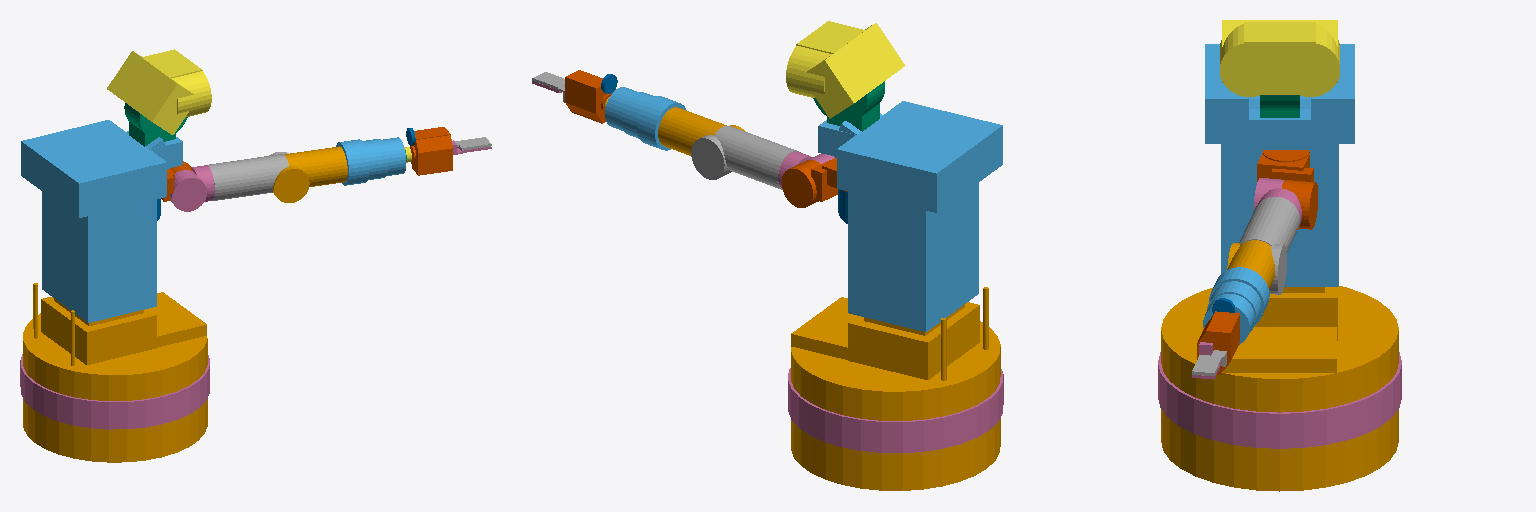
--- Render facts (derived) ---
The picture shows the robot from 3 angles, left to right: view 1: azimuth 30°, elevation 25°; view 2: azimuth 150°, elevation 25°; view 3: azimuth 270°, elevation 25°; orthographic projection.
Model TIAGo Steel with 52 links and 51 joints (9 revolute, 10 continuous, 3 prismatic, 29 fixed), rooted at base_link, posed joints at zero except 1 at the middle of their limits (arm_1_joint = 1.38).
Links seen in each view (by area): view 1: torso_lift_link, base_link, Torso, head_2_link, base_cover_link, arm_4_link, arm_3_link, arm_5_link, front, arm_2_link, head_1_link; view 2: torso_lift_link, base_link, Torso, head_2_link, base_cover_link, arm_3_link, arm_5_link, TIAGo front arm_11381, arm_4_link, front, head_1_link, arm_2_link; view 3: base_link, torso_lift_link, base_cover_link, head_2_link, Torso, arm_3_link, TIAGo front arm_11381, arm_5_link, front, arm_4_link, head_1_link, arm_2_link (+1 smaller).
Link boxes in pixels (x1,y1,x2,y2): torso_lift_link: (21,120,182,322); base_link: (23,283,207,462); Torso: (41,292,206,364); head_2_link: (107,49,211,134); base_cover_link: (20,354,209,429); arm_4_link: (273,146,347,202); arm_3_link: (208,152,288,200); arm_5_link: (336,137,405,185); front: (410,127,452,175); arm_2_link: (170,165,214,211); head_1_link: (124,103,187,146); torso_lift_link: (818,101,1002,331); base_link: (791,287,1000,490); Torso: (791,297,979,379); head_2_link: (786,21,904,118); base_cover_link: (788,368,1003,452); arm_3_link: (691,126,798,189); arm_5_link: (605,87,686,150); TIAGo front arm_11381: (781,158,847,207); arm_4_link: (658,107,745,155); front: (565,70,615,123); head_1_link: (813,81,884,131); arm_2_link: (778,151,834,187); base_link: (1161,286,1398,491); torso_lift_link: (1205,44,1354,286); base_cover_link: (1158,352,1401,448); head_2_link: (1220,20,1339,96); Torso: (1223,287,1337,372); arm_3_link: (1239,197,1299,294); TIAGo front arm_11381: (1257,150,1317,229); arm_5_link: (1203,267,1269,344); front: (1197,311,1239,374); arm_4_link: (1227,240,1274,288); head_1_link: (1260,95,1299,117); arm_2_link: (1254,178,1301,225).
Size in the robot's own frame: 1.41 by 0.544 by 1.12 metres.
Geometry: primitives only (box / cylinder / sphere), no mesh files.

robot.urdf — TIAGo Steel:
<?xml version="1.0"?>
<robot name="TIAGo Steel" xmlns:xacro="http://ros.org/wiki/xacro">
  <link name="base_link">
    <visual>
      <origin xyz="0 0 0.06" rpy="3.1407962 0 0"/>
      <geometry>
        <cylinder radius="0.265" length="0.276"/>
      </geometry>
    </visual>
    <collision>
      <origin xyz="0 0 0.06" rpy="3.1407962 0 0"/>
      <geometry>
        <cylinder radius="0.265" length="0.276"/>
      </geometry>
    </collision>
    <visual>
      <origin xyz="-0.201 0.1062 0.28" rpy="3.1407962 0 0"/>
      <geometry>
        <cylinder radius="0.007" length="0.173"/>
      </geometry>
    </visual>
    <collision>
      <origin xyz="-0.201 0.1062 0.28" rpy="3.1407962 0 0"/>
      <geometry>
        <cylinder radius="0.007" length="0.173"/>
      </geometry>
    </collision>
    <visual>
      <origin xyz="-0.201 -0.1062 0.28" rpy="3.1407962 0 0"/>
      <geometry>
        <cylinder radius="0.007" length="0.173"/>
      </geometry>
    </visual>
    <collision>
      <origin xyz="-0.201 -0.1062 0.28" rpy="3.1407962 0 0"/>
      <geometry>
        <cylinder radius="0.007" length="0.173"/>
      </geometry>
    </collision>
  </link>
  <joint name="hingejoint_12445" type="continuous">
    <parent link="base_link"/>
    <child link="caster_back_left_1_link"/>
    <axis xyz="0 0 1"/>
    <origin xyz="-0.1735 0.102 -0.0335" rpy="0 0 0"/>
  </joint>
  <link name="caster_back_left_1_link">
    <visual>
      <origin xyz="-0.003 0 -0.022" rpy="0 0 0"/>
      <geometry>
        <box size="0.036 0.032 0.04"/>
      </geometry>
    </visual>
    <collision>
      <origin xyz="-0.003 0 -0.022" rpy="0 0 0"/>
      <geometry>
        <box size="0.036 0.032 0.04"/>
      </geometry>
    </collision>
  </link>
  <joint name="hingejoint_12448" type="continuous">
    <parent link="caster_back_left_1_link"/>
    <child link="caster_back_left_2_link"/>
    <axis xyz="0 -3.6732051e-06 1"/>
    <origin xyz="-0.016 0 -0.04" rpy="-1.5708 0 0"/>
  </joint>
  <link name="caster_back_left_2_link">
    <visual>
      <origin xyz="0 0 0" rpy="3.1415923 0 0"/>
      <geometry>
        <cylinder radius="0.025" length="0.015"/>
      </geometry>
    </visual>
    <collision>
      <origin xyz="0 0 0" rpy="3.1415923 0 0"/>
      <geometry>
        <cylinder radius="0.025" length="0.015"/>
      </geometry>
    </collision>
  </link>
  <joint name="hingejoint_12414" type="continuous">
    <parent link="base_link"/>
    <child link="caster_back_right_1_link"/>
    <axis xyz="0 0 1"/>
    <origin xyz="-0.1735 -0.102 -0.0335" rpy="0 0 0"/>
  </joint>
  <link name="caster_back_right_1_link">
    <visual>
      <origin xyz="-0.003 0 -0.022" rpy="0 0 0"/>
      <geometry>
        <box size="0.036 0.032 0.04"/>
      </geometry>
    </visual>
    <collision>
      <origin xyz="-0.003 0 -0.022" rpy="0 0 0"/>
      <geometry>
        <box size="0.036 0.032 0.04"/>
      </geometry>
    </collision>
  </link>
  <joint name="hingejoint_12417" type="continuous">
    <parent link="caster_back_right_1_link"/>
    <child link="caster_back_right_2_link"/>
    <axis xyz="0 -3.6732051e-06 1"/>
    <origin xyz="-0.016 0 -0.04" rpy="-1.5708 0 0"/>
  </joint>
  <link name="caster_back_right_2_link">
    <visual>
      <origin xyz="0 0 0" rpy="3.1415923 0 0"/>
      <geometry>
        <cylinder radius="0.025" length="0.015"/>
      </geometry>
    </visual>
    <collision>
      <origin xyz="0 0 0" rpy="3.1415923 0 0"/>
      <geometry>
        <cylinder radius="0.025" length="0.015"/>
      </geometry>
    </collision>
  </link>
  <joint name="hingejoint_12383" type="continuous">
    <parent link="base_link"/>
    <child link="caster_front_left_1_link"/>
    <axis xyz="0 0 1"/>
    <origin xyz="0.1695 0.102 -0.0335" rpy="0 0 0"/>
  </joint>
  <link name="caster_front_left_1_link">
    <visual>
      <origin xyz="-0.003 0 -0.022" rpy="0 0 0"/>
      <geometry>
        <box size="0.036 0.032 0.04"/>
      </geometry>
    </visual>
    <collision>
      <origin xyz="-0.003 0 -0.022" rpy="0 0 0"/>
      <geometry>
        <box size="0.036 0.032 0.04"/>
      </geometry>
    </collision>
  </link>
  <joint name="hingejoint_12386" type="continuous">
    <parent link="caster_front_left_1_link"/>
    <child link="caster_front_left_2_link"/>
    <axis xyz="0 -3.6732051e-06 1"/>
    <origin xyz="-0.016 0 -0.04" rpy="-1.5708 0 0"/>
  </joint>
  <link name="caster_front_left_2_link">
    <visual>
      <origin xyz="0 0 0" rpy="3.1415923 0 0"/>
      <geometry>
        <cylinder radius="0.025" length="0.015"/>
      </geometry>
    </visual>
    <collision>
      <origin xyz="0 0 0" rpy="3.1415923 0 0"/>
      <geometry>
        <cylinder radius="0.025" length="0.015"/>
      </geometry>
    </collision>
  </link>
  <joint name="hingejoint_12352" type="continuous">
    <parent link="base_link"/>
    <child link="caster_front_right_1_link"/>
    <axis xyz="0 0 1"/>
    <origin xyz="0.1695 -0.102 -0.0335" rpy="0 0 0"/>
  </joint>
  <link name="caster_front_right_1_link">
    <visual>
      <origin xyz="-0.003 0 -0.022" rpy="0 0 0"/>
      <geometry>
        <box size="0.036 0.032 0.04"/>
      </geometry>
    </visual>
    <collision>
      <origin xyz="-0.003 0 -0.022" rpy="0 0 0"/>
      <geometry>
        <box size="0.036 0.032 0.04"/>
      </geometry>
    </collision>
  </link>
  <joint name="hingejoint_12355" type="continuous">
    <parent link="caster_front_right_1_link"/>
    <child link="caster_front_right_2_link"/>
    <axis xyz="0 -3.6732051e-06 1"/>
    <origin xyz="-0.016 0 -0.04" rpy="-1.5708 0 0"/>
  </joint>
  <link name="caster_front_right_2_link">
    <visual>
      <origin xyz="0 0 0" rpy="-3.141589 0 0"/>
      <geometry>
        <cylinder radius="0.025" length="0.015"/>
      </geometry>
    </visual>
    <collision>
      <origin xyz="0 0 0" rpy="-3.141589 0 0"/>
      <geometry>
        <cylinder radius="0.025" length="0.015"/>
      </geometry>
    </collision>
  </link>
  <joint name="wheel_left_joint" type="continuous">
    <parent link="base_link"/>
    <child link="wheel_left_link"/>
    <axis xyz="0 -3.6732051e-06 -1"/>
    <limit effort="10" velocity="10.1523"/>
    <origin xyz="0 0.2022 0" rpy="1.5708 0 0"/>
  </joint>
  <link name="wheel_left_link">
    <visual>
      <origin xyz="0 7.34641e-10 0.0002" rpy="-3.141589 0 0"/>
      <geometry>
        <cylinder radius="0.0985" length="0.04"/>
      </geometry>
    </visual>
    <collision>
      <origin xyz="0 7.34641e-10 0.0002" rpy="-3.141589 0 0"/>
      <geometry>
        <cylinder radius="0.0985" length="0.04"/>
      </geometry>
    </collision>
  </link>
  <joint name="wheel_right_joint" type="continuous">
    <parent link="base_link"/>
    <child link="wheel_right_link"/>
    <axis xyz="0 -3.6732051e-06 -1"/>
    <limit effort="10" velocity="10.1523"/>
    <origin xyz="0 -0.2022 0.0002" rpy="1.5708 0 0"/>
  </joint>
  <link name="wheel_right_link">
    <visual>
      <origin xyz="0 -7.34641e-10 -0.0002" rpy="-3.141589 0 0"/>
      <geometry>
        <cylinder radius="0.0985" length="0.04"/>
      </geometry>
    </visual>
    <collision>
      <origin xyz="0 -7.34641e-10 -0.0002" rpy="-3.141589 0 0"/>
      <geometry>
        <cylinder radius="0.0985" length="0.04"/>
      </geometry>
    </collision>
  </link>
  <link name="base_sonar_01_link">
  </link>
  <joint name="base_link_base_sonar_01_link_joint" type="fixed">
    <parent link="base_link"/>
    <child link="base_sonar_01_link"/>
    <origin xyz="-0.183 -0.183 0.1728" rpy="0 0 -2.3561852"/>
  </joint>
  <link name="base_sonar_02_link">
  </link>
  <joint name="base_link_base_sonar_02_link_joint" type="fixed">
    <parent link="base_link"/>
    <child link="base_sonar_02_link"/>
    <origin xyz="-0.259 0 0.173" rpy="0 0 -3.1415854"/>
  </joint>
  <link name="base_sonar_03_link">
  </link>
  <joint name="base_link_base_sonar_03_link_joint" type="fixed">
    <parent link="base_link"/>
    <child link="base_sonar_03_link"/>
    <origin xyz="-0.183 0.183 0.173" rpy="0 0 2.3562"/>
  </joint>
  <link name="base_cover_link">
    <visual>
      <origin xyz="0 0 0.043" rpy="-3.141589 0 0"/>
      <geometry>
        <cylinder radius="0.272" length="0.086"/>
      </geometry>
    </visual>
    <collision>
      <origin xyz="0 0 0.043" rpy="-3.141589 0 0"/>
      <geometry>
        <cylinder radius="0.272" length="0.086"/>
      </geometry>
    </collision>
  </link>
  <joint name="base_link_base_cover_link_joint" type="fixed">
    <parent link="base_link"/>
    <child link="base_cover_link"/>
    <origin xyz="0 0 0.03" rpy="0 0 0"/>
  </joint>
  <link name="Hokuyo URG-04LX-UG01">
    <visual>
      <origin xyz="0 -0.0175 0" rpy="0 0 0"/>
      <geometry>
        <box size="0.05 0.07 0.05"/>
      </geometry>
    </visual>
    <collision>
      <origin xyz="0 -0.0175 0" rpy="0 0 0"/>
      <geometry>
        <box size="0.05 0.07 0.05"/>
      </geometry>
    </collision>
  </link>
  <joint name="base_link_Hokuyo URG-04LX-UG01_joint" type="fixed">
    <parent link="base_link"/>
    <child link="Hokuyo URG-04LX-UG01"/>
    <origin xyz="0.202 0 -0.004" rpy="1.5707414 0.00011829441 -1.5707414"/>
  </joint>
  <link name="Torso">
    <visual>
      <origin xyz="0 0 0.275" rpy="0 0 0"/>
      <geometry>
        <box size="0.18 0.2 0.55"/>
      </geometry>
    </visual>
    <collision>
      <origin xyz="0 0 0.275" rpy="0 0 0"/>
      <geometry>
        <box size="0.18 0.2 0.55"/>
      </geometry>
    </collision>
    <visual>
      <origin xyz="0.085 0 0.02" rpy="0 0 0"/>
      <geometry>
        <box size="0.4 0.254 0.04"/>
      </geometry>
    </visual>
    <collision>
      <origin xyz="0.085 0 0.02" rpy="0 0 0"/>
      <geometry>
        <box size="0.4 0.254 0.04"/>
      </geometry>
    </collision>
    <visual>
      <origin xyz="0.001 0 0.05" rpy="0 0 0"/>
      <geometry>
        <box size="0.233 0.26 0.12"/>
      </geometry>
    </visual>
    <collision>
      <origin xyz="0.001 0 0.05" rpy="0 0 0"/>
      <geometry>
        <box size="0.233 0.26 0.12"/>
      </geometry>
    </collision>
  </link>
  <joint name="base_link_Torso_joint" type="fixed">
    <parent link="base_link"/>
    <child link="Torso"/>
    <origin xyz="-0.054 0 0.193" rpy="0 0 0"/>
  </joint>
  <joint name="torso_lift_joint" type="prismatic">
    <parent link="Torso"/>
    <child link="torso_lift_link"/>
    <axis xyz="0 0 1"/>
    <origin xyz="0 0 0.6" rpy="0 0 0"/>
    <limit effort="2000" lower="0" upper="0.35" velocity="0.07"/>
  </joint>
  <link name="torso_lift_link">
    <visual>
      <origin xyz="0.164 0 -0.032" rpy="0 0 0"/>
      <geometry>
        <box size="0.15 0.138 0.074"/>
      </geometry>
    </visual>
    <collision>
      <origin xyz="0.164 0 -0.032" rpy="0 0 0"/>
      <geometry>
        <box size="0.15 0.138 0.074"/>
      </geometry>
    </collision>
    <visual>
      <origin xyz="0.1389 0 -0.0432" rpy="0 -0.43 0"/>
      <geometry>
        <box size="0.12 0.134 0.097"/>
      </geometry>
    </visual>
    <collision>
      <origin xyz="0.1389 0 -0.0432" rpy="0 -0.43 0"/>
      <geometry>
        <box size="0.12 0.134 0.097"/>
      </geometry>
    </collision>
    <visual>
      <origin xyz="-0.016 0 -0.05" rpy="0 0 0"/>
      <geometry>
        <box size="0.291 0.333 0.11"/>
      </geometry>
    </visual>
    <collision>
      <origin xyz="-0.016 0 -0.05" rpy="0 0 0"/>
      <geometry>
        <box size="0.291 0.333 0.11"/>
      </geometry>
    </collision>
    <visual>
      <origin xyz="0.003 0 -0.283" rpy="0 0 0"/>
      <geometry>
        <box size="0.228 0.263 0.358"/>
      </geometry>
    </visual>
    <collision>
      <origin xyz="0.003 0 -0.283" rpy="0 0 0"/>
      <geometry>
        <box size="0.228 0.263 0.358"/>
      </geometry>
    </collision>
  </link>
  <joint name="head_1_joint" type="revolute">
    <parent link="torso_lift_link"/>
    <child link="head_1_link"/>
    <axis xyz="0 0 1"/>
    <limit effort="5.197" lower="-1.24" upper="1.24" velocity="3"/>
    <origin xyz="0.182 0 0" rpy="0 0 0"/>
  </joint>
  <link name="head_1_link">
    <visual>
      <origin xyz="0.01 0 0.097" rpy="1.5707963 0 0"/>
      <geometry>
        <cylinder radius="0.082" length="0.09"/>
      </geometry>
    </visual>
    <collision>
      <origin xyz="0.01 0 0.097" rpy="1.5707963 0 0"/>
      <geometry>
        <cylinder radius="0.082" length="0.09"/>
      </geometry>
    </collision>
    <visual>
      <origin xyz="-0.005 0 0.005" rpy="0 0 0"/>
      <geometry>
        <box size="0.103 0.088 0.103"/>
      </geometry>
    </visual>
    <collision>
      <origin xyz="-0.005 0 0.005" rpy="0 0 0"/>
      <geometry>
        <box size="0.103 0.088 0.103"/>
      </geometry>
    </collision>
  </link>
  <joint name="head_2_joint" type="revolute">
    <parent link="head_1_link"/>
    <child link="head_2_link"/>
    <axis xyz="0 3.6732051e-06 1"/>
    <limit effort="2.77" lower="-0.98" upper="0.79" velocity="3"/>
    <origin xyz="0.005 0 0.098" rpy="1.5708 0 0"/>
  </joint>
  <link name="head_2_link">
    <visual>
      <origin xyz="-0.009 0.0466 0" rpy="0 0 -0.7"/>
      <geometry>
        <box size="0.092 0.132 0.26"/>
      </geometry>
    </visual>
    <collision>
      <origin xyz="-0.009 0.0466 0" rpy="0 0 -0.7"/>
      <geometry>
        <box size="0.092 0.132 0.26"/>
      </geometry>
    </collision>
    <visual>
      <origin xyz="0.008 -0.019 0" rpy="-3.7000516e-06 0 0"/>
      <geometry>
        <cylinder radius="0.03" length="0.132"/>
      </geometry>
    </visual>
    <collision>
      <origin xyz="0.008 -0.019 0" rpy="-3.7000516e-06 0 0"/>
      <geometry>
        <cylinder radius="0.03" length="0.132"/>
      </geometry>
    </collision>
    <visual>
      <origin xyz="0.054 0.06 0" rpy="0 0 0"/>
      <geometry>
        <box size="0.111 0.13 0.16"/>
      </geometry>
    </visual>
    <collision>
      <origin xyz="0.054 0.06 0" rpy="0 0 0"/>
      <geometry>
        <box size="0.111 0.13 0.16"/>
      </geometry>
    </collision>
    <visual>
      <origin xyz="0.053 0.056 -0.068" rpy="1.5707963 -2.7755576e-16 -1.5708"/>
      <geometry>
        <cylinder radius="0.0667" length="0.111"/>
      </geometry>
    </visual>
    <collision>
      <origin xyz="0.053 0.056 -0.068" rpy="1.5707963 -2.7755576e-16 -1.5708"/>
      <geometry>
        <cylinder radius="0.0667" length="0.111"/>
      </geometry>
    </collision>
    <visual>
      <origin xyz="0.053 0.056 0.068" rpy="1.5707963 -2.7755576e-16 -1.5708"/>
      <geometry>
        <cylinder radius="0.0667" length="0.111"/>
      </geometry>
    </visual>
    <collision>
      <origin xyz="0.053 0.056 0.068" rpy="1.5707963 -2.7755576e-16 -1.5708"/>
      <geometry>
        <cylinder radius="0.0667" length="0.111"/>
      </geometry>
    </collision>
  </link>
  <link name="TIAGo front arm_11367">
    <visual>
      <origin xyz="0.026 0.14 -0.232" rpy="0 0 1.5708"/>
      <geometry>
        <box size="0.042 0.094 0.094"/>
      </geometry>
    </visual>
    <collision>
      <origin xyz="0.026 0.14 -0.232" rpy="0 0 1.5708"/>
      <geometry>
        <box size="0.042 0.094 0.094"/>
      </geometry>
    </collision>
    <visual>
      <origin xyz="0.0256 0.1868 -0.2661" rpy="1.6887958e-05 -0.26184443 1.5707794"/>
      <geometry>
        <cylinder radius="0.053" length="0.016"/>
      </geometry>
    </visual>
    <collision>
      <origin xyz="0.0256 0.1868 -0.2661" rpy="1.6887958e-05 -0.26184443 1.5707794"/>
      <geometry>
        <cylinder radius="0.053" length="0.016"/>
      </geometry>
    </collision>
    <visual>
      <origin xyz="0.026 0.19 -0.221" rpy="-3.7000516e-06 0 0"/>
      <geometry>
        <cylinder radius="0.053" length="0.075"/>
      </geometry>
    </visual>
    <collision>
      <origin xyz="0.026 0.19 -0.221" rpy="-3.7000516e-06 0 0"/>
      <geometry>
        <cylinder radius="0.053" length="0.075"/>
      </geometry>
    </collision>
  </link>
  <joint name="torso_lift_link_TIAGo front arm_11367_joint" type="fixed">
    <parent link="torso_lift_link"/>
    <child link="TIAGo front arm_11367"/>
    <origin xyz="-0.037 0.0388 0.0224" rpy="0 0 -1.5708"/>
  </joint>
  <joint name="arm_1_joint" type="revolute">
    <parent link="TIAGo front arm_11367"/>
    <child link="TIAGo front arm_11381"/>
    <axis xyz="0 0 1"/>
    <limit effort="43" lower="0.07" upper="2.68" velocity="1.95"/>
    <origin xyz="0.025 0.194 -0.16" rpy="0 0 0"/>
  </joint>
  <link name="TIAGo front arm_11381">
    <visual>
      <origin xyz="0.0001 0 0.002" rpy="-3.141589 0 0"/>
      <geometry>
        <cylinder radius="0.0522" length="0.052"/>
      </geometry>
    </visual>
    <collision>
      <origin xyz="0.0001 0 0.002" rpy="-3.141589 0 0"/>
      <geometry>
        <cylinder radius="0.0522" length="0.052"/>
      </geometry>
    </collision>
    <visual>
      <origin xyz="0.0331 0.001 0.001" rpy="0 0 0"/>
      <geometry>
        <box size="0.08 0.1044 0.048"/>
      </geometry>
    </visual>
    <collision>
      <origin xyz="0.0331 0.001 0.001" rpy="0 0 0"/>
      <geometry>
        <box size="0.08 0.1044 0.048"/>
      </geometry>
    </collision>
    <visual>
      <origin xyz="0.0721 0.029 -0.023" rpy="0 0 0"/>
      <geometry>
        <box size="0.035 0.09 0.081"/>
      </geometry>
    </visual>
    <collision>
      <origin xyz="0.0721 0.029 -0.023" rpy="0 0 0"/>
      <geometry>
        <box size="0.035 0.09 0.081"/>
      </geometry>
    </collision>
    <visual>
      <origin xyz="0.1251 0.053 -0.042" rpy="1.5707963 0 0"/>
      <geometry>
        <cylinder radius="0.053" length="0.069"/>
      </geometry>
    </visual>
    <collision>
      <origin xyz="0.1251 0.053 -0.042" rpy="1.5707963 0 0"/>
      <geometry>
        <cylinder radius="0.053" length="0.069"/>
      </geometry>
    </collision>
  </link>
  <joint name="arm_2_joint" type="revolute">
    <parent link="TIAGo front arm_11381"/>
    <child link="arm_2_link"/>
    <axis xyz="0 3.6732051e-06 1"/>
    <limit effort="43" lower="-1.5" upper="1.02" velocity="1.95"/>
    <origin xyz="0.1251 0.0195 -0.042" rpy="1.5708 0 0"/>
  </joint>
  <link name="arm_2_link">
    <visual>
      <origin xyz="0.056 5.5098077e-09 -0.0005" rpy="1.5707963 -2.7755576e-16 -1.5708"/>
      <geometry>
        <cylinder radius="0.052" length="0.048"/>
      </geometry>
    </visual>
    <collision>
      <origin xyz="0.056 5.5098077e-09 -0.0005" rpy="1.5707963 -2.7755576e-16 -1.5708"/>
      <geometry>
        <cylinder radius="0.052" length="0.048"/>
      </geometry>
    </collision>
    <visual>
      <origin xyz="0 5.5098077e-09 0.0295" rpy="-3.7000516e-06 0 0"/>
      <geometry>
        <cylinder radius="0.053" length="0.057"/>
      </geometry>
    </visual>
    <collision>
      <origin xyz="0 5.5098077e-09 0.0295" rpy="-3.7000516e-06 0 0"/>
      <geometry>
        <cylinder radius="0.053" length="0.057"/>
      </geometry>
    </collision>
  </link>
  <joint name="arm_3_joint" type="revolute">
    <parent link="arm_2_link"/>
    <child link="arm_3_link"/>
    <axis xyz="-7.801315e-05 -9.5201074e-05 1"/>
    <limit effort="26" lower="-3.46" upper="1.5" velocity="2.35"/>
    <origin xyz="0.0895 5.5098077e-09 -1.0118208e-14" rpy="-1.5708915 9.5201074e-05 1.5707183"/>
  </joint>
  <link name="arm_3_link">
    <visual>
      <origin xyz="-1.7943024e-07 -2.1896247e-07 -0.1037" rpy="-3.7000516e-06 0 0"/>
      <geometry>
        <cylinder radius="0.053" length="0.23"/>
      </geometry>
    </visual>
    <collision>
      <origin xyz="-1.7943024e-07 -2.1896247e-07 -0.1037" rpy="-3.7000516e-06 0 0"/>
      <geometry>
        <cylinder radius="0.053" length="0.23"/>
      </geometry>
    </collision>
    <visual>
      <origin xyz="-0.01690018 0.029999781 -0.2187" rpy="1.5707963 0 0"/>
      <geometry>
        <cylinder radius="0.056" length="0.056"/>
      </geometry>
    </visual>
    <collision>
      <origin xyz="-0.01690018 0.029999781 -0.2187" rpy="1.5707963 0 0"/>
      <geometry>
        <cylinder radius="0.056" length="0.056"/>
      </geometry>
    </collision>
  </link>
  <joint name="arm_4_joint" type="revolute">
    <parent link="arm_3_link"/>
    <child link="arm_4_link"/>
    <axis xyz="2.8276386e-06 -2.8276306e-06 1"/>
    <limit effort="26" lower="-0.32" upper="2.29" velocity="2.35"/>
    <origin xyz="-0.02000018 -0.027000219 -0.2197" rpy="2.356193 -1.5707923 2.356193"/>
  </joint>
  <link name="arm_4_link">
    <visual>
      <origin xyz="0 0.001 -0.002" rpy="-3.141589 0 0"/>
      <geometry>
        <cylinder radius="0.054" length="0.056"/>
      </geometry>
    </visual>
    <collision>
      <origin xyz="0 0.001 -0.002" rpy="-3.141589 0 0"/>
      <geometry>
        <cylinder radius="0.054" length="0.056"/>
      </geometry>
    </collision>
    <visual>
      <origin xyz="-0.093 0.019 0.027" rpy="1.5707963 -2.7755576e-16 -1.5708"/>
      <geometry>
        <cylinder radius="0.052" length="0.191"/>
      </geometry>
    </visual>
    <collision>
      <origin xyz="-0.093 0.019 0.027" rpy="1.5707963 -2.7755576e-16 -1.5708"/>
      <geometry>
        <cylinder radius="0.052" length="0.191"/>
      </geometry>
    </collision>
  </link>
  <joint name="arm_5_joint" type="revolute">
    <parent link="arm_4_link"/>
    <child link="arm_5_link"/>
    <axis xyz="3.6732051e-06 0 1"/>
    <limit effort="3" lower="-2.07" upper="2.07" velocity="1.95"/>
    <origin xyz="-0.162 0.02 0.027" rpy="3.1415927 -1.5707927 3.1415927"/>
  </joint>
  <link name="arm_5_link">
    <visual>
      <origin xyz="0 0 0.04" rpy="3.1407962 0 0"/>
      <geometry>
        <cylinder radius="0.063" length="0.062"/>
      </geometry>
    </visual>
    <collision>
      <origin xyz="0 0 0.04" rpy="3.1407962 0 0"/>
      <geometry>
        <cylinder radius="0.063" length="0.062"/>
      </geometry>
    </collision>
    <visual>
      <origin xyz="0 0 0.099" rpy="3.1407962 0 0"/>
      <geometry>
        <cylinder radius="0.057" length="0.06"/>
      </geometry>
    </visual>
    <collision>
      <origin xyz="0 0 0.099" rpy="3.1407962 0 0"/>
      <geometry>
        <cylinder radius="0.057" length="0.06"/>
      </geometry>
    </collision>
    <visual>
      <origin xyz="0 0 0.156" rpy="3.1407962 0 0"/>
      <geometry>
        <cylinder radius="0.053" length="0.06"/>
      </geometry>
    </visual>
    <collision>
      <origin xyz="0 0 0.156" rpy="3.1407962 0 0"/>
      <geometry>
        <cylinder radius="0.053" length="0.06"/>
      </geometry>
    </collision>
  </link>
  <joint name="arm_6_joint" type="revolute">
    <parent link="arm_5_link"/>
    <child link="arm_6_link"/>
    <axis xyz="2.8276386e-06 -2.8276306e-06 1"/>
    <limit effort="6.6" lower="-1.39" upper="1.39" velocity="1.76"/>
    <origin xyz="0 0 0.15" rpy="2.356193 -1.5707923 2.356193"/>
  </joint>
  <link name="arm_6_link">
    <visual>
      <origin xyz="0.0409 0 0" rpy="1.5707963 -2.7755576e-16 -1.5708"/>
      <geometry>
        <cylinder radius="0.0226" length="0.013"/>
      </geometry>
    </visual>
    <collision>
      <origin xyz="0.0409 0 0" rpy="1.5707963 -2.7755576e-16 -1.5708"/>
      <geometry>
        <cylinder radius="0.0226" length="0.013"/>
      </geometry>
    </collision>
  </link>
  <joint name="arm_7_joint" type="revolute">
    <parent link="arm_6_link"/>
    <child link="arm_7_link"/>
    <axis xyz="-2.8276306e-06 2.8276386e-06 1"/>
    <limit effort="6.6" lower="-2.07" upper="2.07" velocity="1.76"/>
    <origin xyz="0 0 0" rpy="1.5707991 -2.8276386e-06 1.5707991"/>
  </joint>
  <link name="arm_7_link">
    <visual>
      <origin xyz="-1.5551969e-07 1.5552013e-07 0.055" rpy="-3.141589 0 0"/>
      <geometry>
        <cylinder radius="0.0225" length="0.0157"/>
      </geometry>
    </visual>
    <collision>
      <origin xyz="-1.5551969e-07 1.5552013e-07 0.055" rpy="-3.141589 0 0"/>
      <geometry>
        <cylinder radius="0.0225" length="0.0157"/>
      </geometry>
    </collision>
  </link>
  <link name="wrist_ft_tool_link">
    <visual>
      <origin xyz="-1.5551969e-07 1.5552013e-07 0.055" rpy="1.5707963 1.110223e-16 1.57"/>
      <geometry>
        <cylinder radius="0.0253" length="0.011"/>
      </geometry>
    </visual>
    <collision>
      <origin xyz="-1.5551969e-07 1.5552013e-07 0.055" rpy="1.5707963 1.110223e-16 1.57"/>
      <geometry>
        <cylinder radius="0.0253" length="0.011"/>
      </geometry>
    </collision>
  </link>
  <joint name="arm_7_link_wrist_ft_tool_link_joint" type="fixed">
    <parent link="arm_7_link"/>
    <child link="wrist_ft_tool_link"/>
    <origin xyz="-1.5551969e-07 1.5552013e-07 0.067725" rpy="2.356193 -1.5707923 2.356193"/>
  </joint>
  <link name="front">
    <visual>
      <origin xyz="0 0 0" rpy="3.1407962 0 0"/>
      <geometry>
        <cylinder radius="0.0227" length="0.028"/>
      </geometry>
    </visual>
    <collision>
      <origin xyz="0 0 0" rpy="3.1407962 0 0"/>
      <geometry>
        <cylinder radius="0.0227" length="0.028"/>
      </geometry>
    </collision>
    <visual>
      <origin xyz="0.029 -0.01834 -0.046" rpy="0 0 0.59"/>
      <geometry>
        <box size="0.04 0.0217 0.105"/>
      </geometry>
    </visual>
    <collision>
      <origin xyz="0.029 -0.01834 -0.046" rpy="0 0 0.59"/>
      <geometry>
        <box size="0.04 0.0217 0.105"/>
      </geometry>
    </collision>
    <visual>
      <origin xyz="-0.029 0.01834 -0.046" rpy="0 0 0.59"/>
      <geometry>
        <box size="0.04 0.0217 0.105"/>
      </geometry>
    </visual>
    <collision>
      <origin xyz="-0.029 0.01834 -0.046" rpy="0 0 0.59"/>
      <geometry>
        <box size="0.04 0.0217 0.105"/>
      </geometry>
    </collision>
    <visual>
      <origin xyz="0.0172 0.0109 -0.046" rpy="3.1415927 -1.5707927 3.1415927"/>
      <geometry>
        <box size="0.106 0.056 0.071"/>
      </geometry>
    </visual>
    <collision>
      <origin xyz="0.0172 0.0109 -0.046" rpy="3.1415927 -1.5707927 3.1415927"/>
      <geometry>
        <box size="0.106 0.056 0.071"/>
      </geometry>
    </collision>
    <visual>
      <origin xyz="-0.0172 -0.0109 -0.046" rpy="3.1415927 -1.5707927 3.1415927"/>
      <geometry>
        <box size="0.106 0.056 0.071"/>
      </geometry>
    </visual>
    <collision>
      <origin xyz="-0.0172 -0.0109 -0.046" rpy="3.1415927 -1.5707927 3.1415927"/>
      <geometry>
        <box size="0.106 0.056 0.071"/>
      </geometry>
    </collision>
  </link>
  <joint name="wrist_ft_tool_link_front_joint" type="fixed">
    <parent link="wrist_ft_tool_link"/>
    <child link="front"/>
    <origin xyz="0.016 -5.877128e-08 0" rpy="-2.356193 1.5707923 0.78539306"/>
  </joint>
  <joint name="gripper_right_finger_joint" type="prismatic">
    <parent link="front"/>
    <child link="gripper_right_finger_link"/>
    <axis xyz="1 0 0"/>
    <origin xyz="0 0 0" rpy="0 0 0"/>
    <limit effort="16" lower="0" upper="0.045" velocity="0.05"/>
  </joint>
  
  <link name="gripper_right_finger_link">
    <visual>
      <origin xyz="0.004 0 -0.1741" rpy="0 0 0"/>
      <geometry>
        <box size="0.0076 0.05091 0.08982"/>
      </geometry>
    </visual>
    <collision>
      <origin xyz="0.004 0 -0.1741" rpy="0 0 0"/>
      <geometry>
        <box size="0.0076 0.05091 0.08982"/>
      </geometry>
    </collision>
    <visual>
      <origin xyz="0.0049 0.0153 -0.1208" rpy="0 0 0"/>
      <geometry>
        <box size="0.0055 0.0295 0.018"/>
      </geometry>
    </visual>
    <collision>
      <origin xyz="0.0049 0.0153 -0.1208" rpy="0 0 0"/>
      <geometry>
        <box size="0.0055 0.0295 0.018"/>
      </geometry>
    </collision>
    <visual>
      <origin xyz="-0.0085 0.0156 -0.1048" rpy="0 0 0"/>
      <geometry>
        <box size="0.03213 0.02959 0.01487"/>
      </geometry>
    </visual>
    <collision>
      <origin xyz="-0.0085 0.0156 -0.1048" rpy="0 0 0"/>
      <geometry>
        <box size="0.03213 0.02959 0.01487"/>
      </geometry>
    </collision>
  </link>
  <joint name="gripper_left_finger_joint" type="prismatic">
    <parent link="front"/>
    <child link="gripper_left_finger_link"/>
    <axis xyz="1 9.265359e-05 0"/>
    <origin xyz="0 0 0" rpy="0 0 3.1415"/>
    <limit effort="16" lower="0" upper="0.045" velocity="0.05"/>
  </joint>
  <link name="gripper_left_finger_link">
    <visual>
      <origin xyz="0.004 0 -0.1741" rpy="0 0 0"/>
      <geometry>
        <box size="0.0076 0.05091 0.08982"/>
      </geometry>
    </visual>
    <collision>
      <origin xyz="0.004 0 -0.1741" rpy="0 0 0"/>
      <geometry>
        <box size="0.0076 0.05091 0.08982"/>
      </geometry>
    </collision>
    <visual>
      <origin xyz="0.0049 0.0153 -0.1208" rpy="0 0 0"/>
      <geometry>
        <box size="0.0055 0.0295 0.018"/>
      </geometry>
    </visual>
    <collision>
      <origin xyz="0.0049 0.0153 -0.1208" rpy="0 0 0"/>
      <geometry>
        <box size="0.0055 0.0295 0.018"/>
      </geometry>
    </collision>
    <visual>
      <origin xyz="-0.0085 0.0156 -0.1048" rpy="0 0 0"/>
      <geometry>
        <box size="0.03213 0.02959 0.01487"/>
      </geometry>
    </visual>
    <collision>
      <origin xyz="-0.0085 0.0156 -0.1048" rpy="0 0 0"/>
      <geometry>
        <box size="0.03213 0.02959 0.01487"/>
      </geometry>
    </collision>
  </link>
  <link name="cap screw(19)">
  </link>
  <joint name="front_cap screw(19)_joint" type="fixed">
    <parent link="front"/>
    <child link="cap screw(19)"/>
    <origin xyz="0.0415 -0.0029 -0.0004" rpy="3.14159 0 0"/>
  </joint>
  <link name="cap screw(18)">
  </link>
  <joint name="front_cap screw(18)_joint" type="fixed">
    <parent link="front"/>
    <child link="cap screw(18)"/>
    <origin xyz="-0.0415 0.0029 -0.0004" rpy="3.14159 0 0"/>
  </joint>
  <link name="cap screw(17)">
  </link>
  <joint name="front_cap screw(17)_joint" type="fixed">
    <parent link="front"/>
    <child link="cap screw(17)"/>
    <origin xyz="0.0433 0.0315 0.0026" rpy="3.14159 0 0"/>
  </joint>
  <link name="cap screw(16)">
  </link>
  <joint name="front_cap screw(16)_joint" type="fixed">
    <parent link="front"/>
    <child link="cap screw(16)"/>
    <origin xyz="-0.0433 -0.0315 0.0026" rpy="3.14159 0 0"/>
  </joint>
  <link name="cap screw(15)">
  </link>
  <joint name="front_cap screw(15)_joint" type="fixed">
    <parent link="front"/>
    <child link="cap screw(15)"/>
    <origin xyz="0 0.033 0.0026" rpy="3.14159 0 0"/>
  </joint>
  <link name="cap screw(14)">
  </link>
  <joint name="front_cap screw(14)_joint" type="fixed">
    <parent link="front"/>
    <child link="cap screw(14)"/>
    <origin xyz="0 -0.033 0.0026" rpy="3.14159 0 0"/>
  </joint>
  <link name="cap screw(13)">
  </link>
  <joint name="front_cap screw(13)_joint" type="fixed">
    <parent link="front"/>
    <child link="cap screw(13)"/>
    <origin xyz="0.0426 -0.0094 -0.09448" rpy="0 0 0"/>
  </joint>
  <link name="cap screw(12)">
  </link>
  <joint name="front_cap screw(12)_joint" type="fixed">
    <parent link="front"/>
    <child link="cap screw(12)"/>
    <origin xyz="-0.0425 0.0094 -0.0945" rpy="0 0 0"/>
  </joint>
  <link name="cap screw(11)">
  </link>
  <joint name="front_cap screw(11)_joint" type="fixed">
    <parent link="front"/>
    <child link="cap screw(11)"/>
    <origin xyz="-0.0477 -0.008 -0.0108" rpy="3.1415927 1.5707927 3.1415927"/>
  </joint>
  <link name="cap screw(10)">
  </link>
  <joint name="front_cap screw(10)_joint" type="fixed">
    <parent link="front"/>
    <child link="cap screw(10)"/>
    <origin xyz="-0.0477 -0.008 -0.043" rpy="3.1415927 1.5707927 3.1415927"/>
  </joint>
  <link name="cap screw(9)">
  </link>
  <joint name="front_cap screw(9)_joint" type="fixed">
    <parent link="front"/>
    <child link="cap screw(9)"/>
    <origin xyz="-0.0477 -0.008 -0.075" rpy="3.1415927 1.5707927 3.1415927"/>
  </joint>
  <link name="cap screw(8)">
  </link>
  <joint name="front_cap screw(8)_joint" type="fixed">
    <parent link="front"/>
    <child link="cap screw(8)"/>
    <origin xyz="-0.0477 0.008 -0.075" rpy="3.1415927 1.5707927 3.1415927"/>
  </joint>
  <link name="cap screw(7)">
  </link>
  <joint name="front_cap screw(7)_joint" type="fixed">
    <parent link="front"/>
    <child link="cap screw(7)"/>
    <origin xyz="-0.0477 0.008 -0.043" rpy="3.1415927 1.5707927 3.1415927"/>
  </joint>
  <link name="cap screw(6)">
  </link>
  <joint name="front_cap screw(6)_joint" type="fixed">
    <parent link="front"/>
    <child link="cap screw(6)"/>
    <origin xyz="-0.0477 0.008 -0.0108" rpy="3.1415927 1.5707927 3.1415927"/>
  </joint>
  <link name="cap screw(5)">
  </link>
  <joint name="front_cap screw(5)_joint" type="fixed">
    <parent link="front"/>
    <child link="cap screw(5)"/>
    <origin xyz="0.0477 -0.008 -0.0108" rpy="3.1415927 -1.5707927 3.1415927"/>
  </joint>
  <link name="cap screw(4)">
  </link>
  <joint name="front_cap screw(4)_joint" type="fixed">
    <parent link="front"/>
    <child link="cap screw(4)"/>
    <origin xyz="0.0477 -0.008 -0.043" rpy="3.1415927 -1.5707927 3.1415927"/>
  </joint>
  <link name="cap screw(3)">
  </link>
  <joint name="front_cap screw(3)_joint" type="fixed">
    <parent link="front"/>
    <child link="cap screw(3)"/>
    <origin xyz="0.0477 -0.008 -0.075" rpy="3.1415927 -1.5707927 3.1415927"/>
  </joint>
  <link name="cap screw(2)">
  </link>
  <joint name="front_cap screw(2)_joint" type="fixed">
    <parent link="front"/>
    <child link="cap screw(2)"/>
    <origin xyz="0.0477 0.008 -0.075" rpy="3.1415927 -1.5707927 3.1415927"/>
  </joint>
  <link name="cap screw(1)">
  </link>
  <joint name="front_cap screw(1)_joint" type="fixed">
    <parent link="front"/>
    <child link="cap screw(1)"/>
    <origin xyz="0.0477 0.008 -0.043" rpy="3.1415927 -1.5707927 3.1415927"/>
  </joint>
  <link name="cap screw">
  </link>
  <joint name="front_cap screw_joint" type="fixed">
    <parent link="front"/>
    <child link="cap screw"/>
    <origin xyz="0.0477 0.008 -0.0108" rpy="3.1415927 -1.5707927 3.1415927"/>
  </joint>
</robot>
